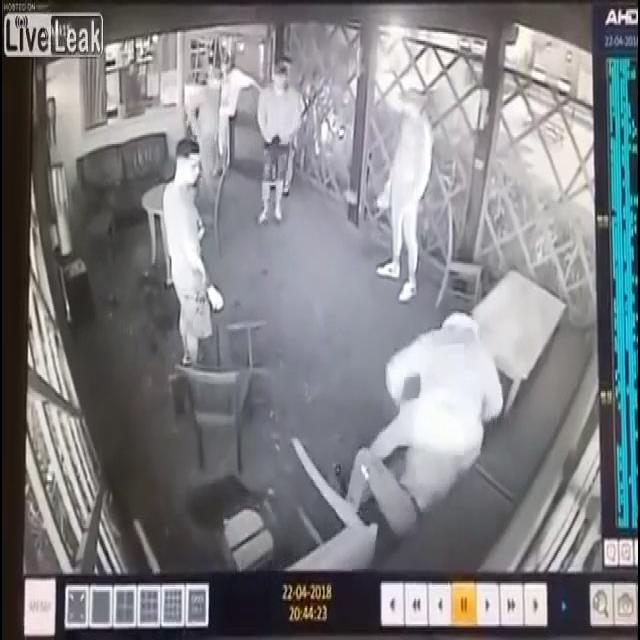fight: (349, 308, 506, 549)
